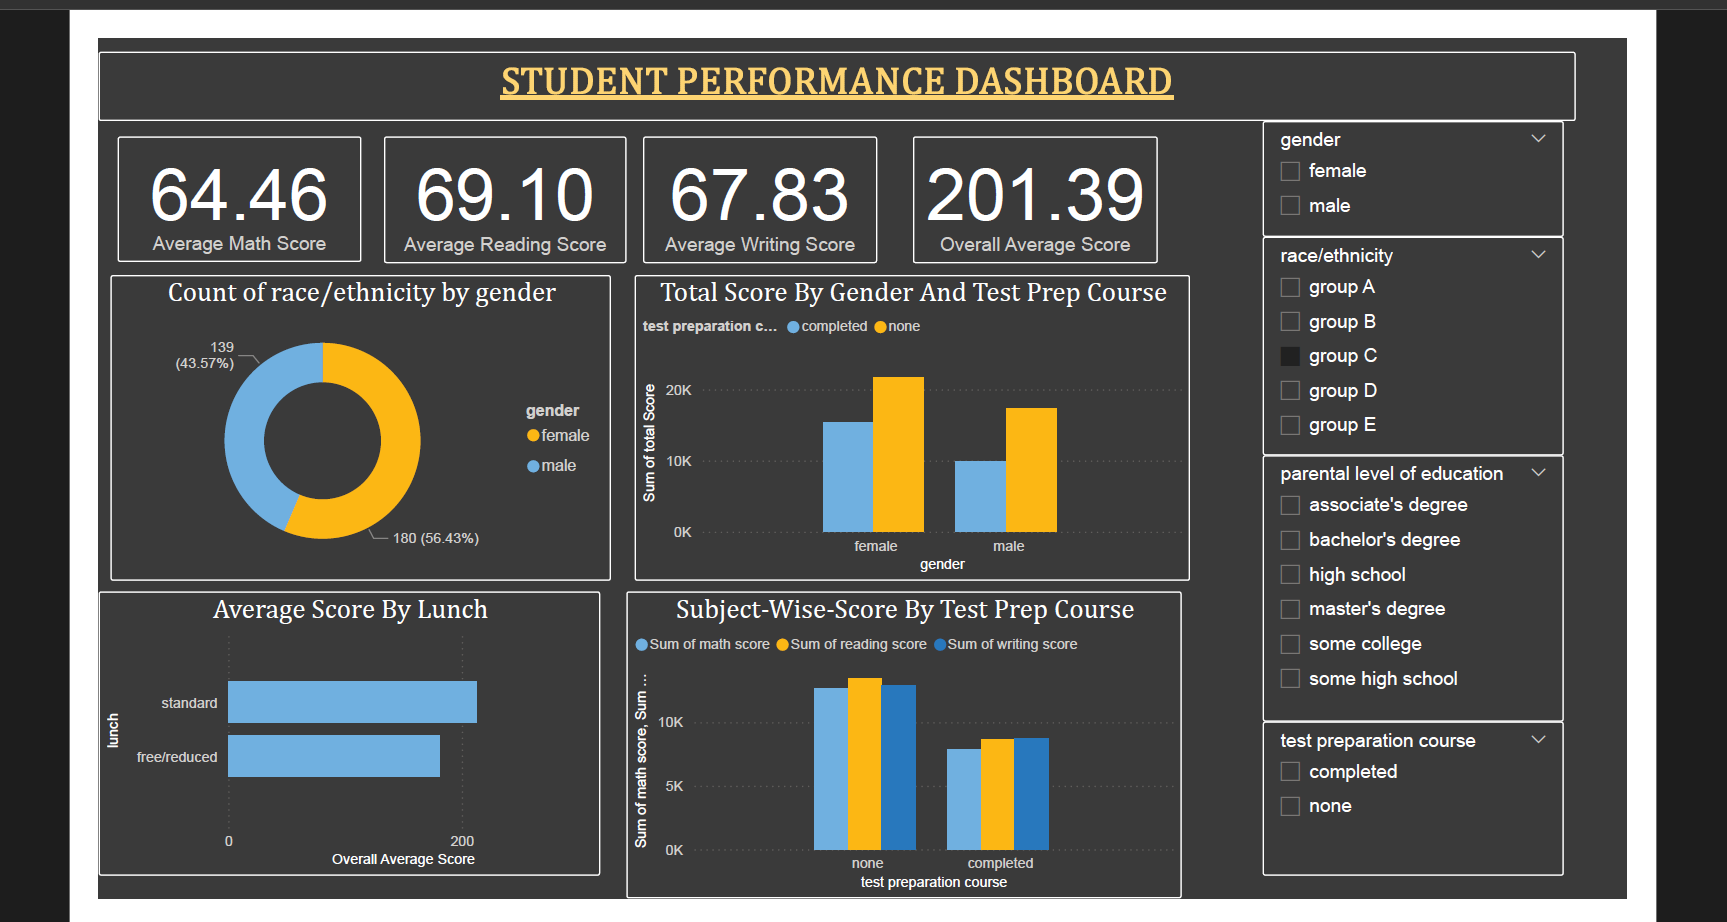

This screenshot's page, from the dashboard's own definition file:
{"tool":"powerbi","page":{"name":"Page 1","canvas":[1280,720],"ordinal":0},"visuals":[{"type":"clusteredBarChart","title":"Average Score By Lunch","fields":{"Y":["StudentsPerformance.Overall Average"],"Category":["StudentsPerformance.lunch"]},"box":[0,463.3,419.8,237.7],"z":0},{"type":"donutChart","fields":{"Category":["StudentsPerformance.gender"],"Y":["CountNonNull(StudentsPerformance.race/ethnicity)"]},"box":[9.7,197.9,419.8,255.8],"z":1000},{"type":"clusteredColumnChart","title":"Subject-Wise-Score By Test Prep Course","fields":{"Category":["StudentsPerformance.test preparation course"],"Y":["Sum(StudentsPerformance.math score)","Sum(StudentsPerformance.reading score)","Sum(StudentsPerformance.writing score)"]},"box":[441.6,463.3,465.7,257],"z":2000},{"type":"clusteredColumnChart","title":"Total Score By Gender And Test Prep Course","fields":{"Y":["Sum(StudentsPerformance.total Score)"],"Category":["StudentsPerformance.gender"],"Series":["StudentsPerformance.test preparation course"]},"box":[448.8,197.9,465.7,255.8],"z":3000},{"type":"textbox","box":[0,10.9,1236.6,57.9],"z":4000},{"type":"slicer","fields":{"Values":["StudentsPerformance.gender"]},"box":[974.8,68.8,252.1,97.7],"z":5000},{"type":"card","fields":{"Values":["StudentsPerformance.Average reading"]},"box":[238.8,82.3,203.1,105.7],"z":6000},{"type":"card","fields":{"Values":["StudentsPerformance.Average writing"]},"box":[455.6,82.3,196.2,105.7],"z":7000},{"type":"card","fields":{"Values":["StudentsPerformance.Overall Average"]},"box":[681.6,82,205.1,106.2],"z":8000},{"type":"slicer","fields":{"Values":["StudentsPerformance.race/ethnicity"]},"box":[974.8,166.5,252.1,182.2],"z":9000},{"type":"slicer","fields":{"Values":["StudentsPerformance.parental level of education"]},"box":[974.8,348.7,252.1,223.2],"z":10000},{"type":"slicer","fields":{"Values":["StudentsPerformance.test preparation course"]},"box":[974.8,571.9,252.1,129.1],"z":10001},{"type":"card","fields":{"Values":["StudentsPerformance.Average math"]},"box":[15.7,82,203.9,105],"z":10002}]}

Visuals, with their boxes on the page's 1280x720 design canvas (x1, y1, x2, y2). These are canvas units, not pixel positions in the 1727x922 screenshot, which may show the page scaled, cropped or inside an application window:
"Average Score By Lunch" clusteredBarChart: box(0, 463, 420, 701)
donutChart - StudentsPerformance.gender x CountNonNull(StudentsPerformance.race/ethnicity): box(10, 198, 430, 454)
"Subject-Wise-Score By Test Prep Course" clusteredColumnChart: box(442, 463, 907, 720)
"Total Score By Gender And Test Prep Course" clusteredColumnChart: box(449, 198, 914, 454)
textbox: box(0, 11, 1237, 69)
slicer - StudentsPerformance.gender: box(975, 69, 1227, 166)
card - StudentsPerformance.Average reading: box(239, 82, 442, 188)
card - StudentsPerformance.Average writing: box(456, 82, 652, 188)
card - StudentsPerformance.Overall Average: box(682, 82, 887, 188)
slicer - StudentsPerformance.race/ethnicity: box(975, 166, 1227, 349)
slicer - StudentsPerformance.parental level of education: box(975, 349, 1227, 572)
slicer - StudentsPerformance.test preparation course: box(975, 572, 1227, 701)
card - StudentsPerformance.Average math: box(16, 82, 220, 187)
